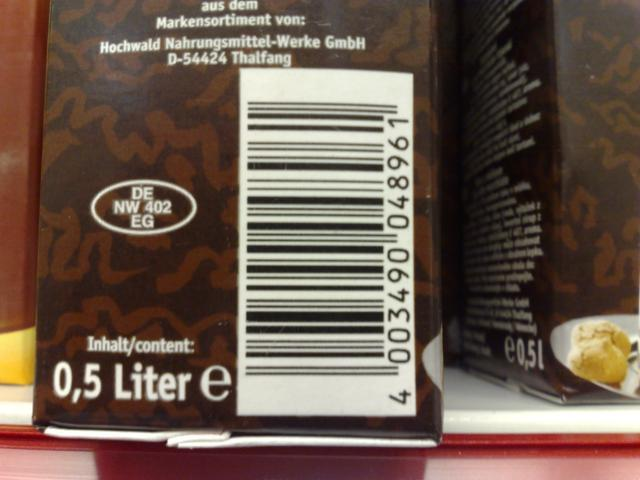Barcode: (236, 100, 416, 418)
